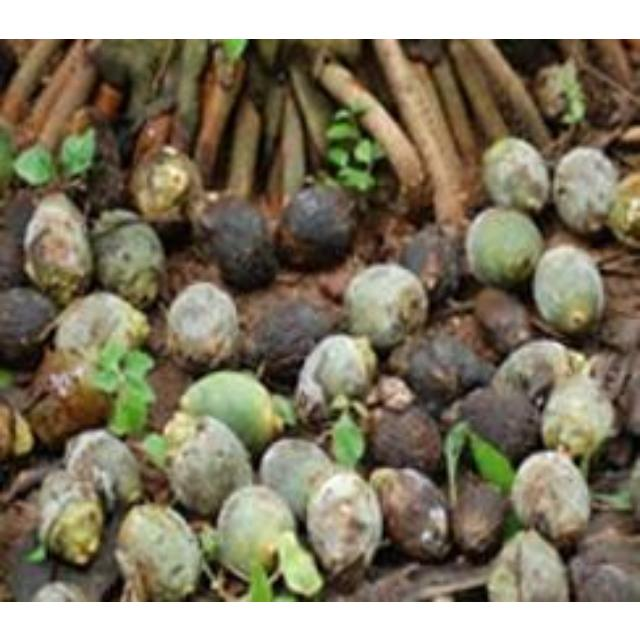damaged: (8, 514, 126, 600), (26, 346, 120, 450), (213, 484, 305, 584), (178, 368, 284, 454), (304, 470, 386, 580), (114, 502, 204, 600), (22, 192, 96, 306), (370, 466, 454, 566), (196, 194, 280, 290), (509, 449, 591, 547), (245, 296, 337, 382), (275, 180, 361, 270), (293, 334, 377, 424), (89, 211, 167, 307), (541, 368, 615, 469), (452, 382, 542, 464), (164, 280, 243, 372), (402, 332, 492, 412), (34, 469, 108, 566), (344, 264, 428, 348), (129, 146, 209, 232), (52, 292, 150, 362), (532, 244, 606, 336), (64, 429, 146, 511), (260, 437, 338, 521), (463, 208, 542, 288), (486, 528, 568, 600), (553, 146, 619, 234), (366, 403, 444, 475), (164, 422, 242, 493), (480, 135, 550, 213), (398, 224, 464, 306), (450, 474, 510, 562), (568, 526, 638, 600), (493, 340, 572, 402), (77, 118, 129, 212), (0, 286, 58, 366), (1, 190, 42, 290), (470, 286, 532, 352), (534, 54, 588, 126), (92, 39, 166, 89), (598, 308, 640, 364), (1, 398, 36, 462), (161, 410, 201, 460), (372, 373, 416, 412)
